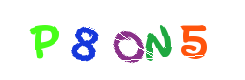0: (82, 0, 162, 80)
5: (153, 0, 233, 80)
8: (59, 0, 139, 80)
N: (87, 0, 167, 80)
P: (45, 0, 125, 80)
